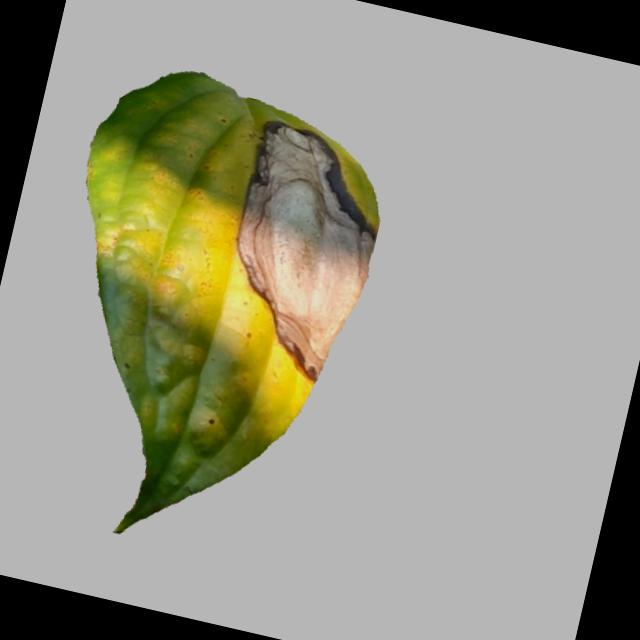leaf-blight: (0, 57, 409, 579)
